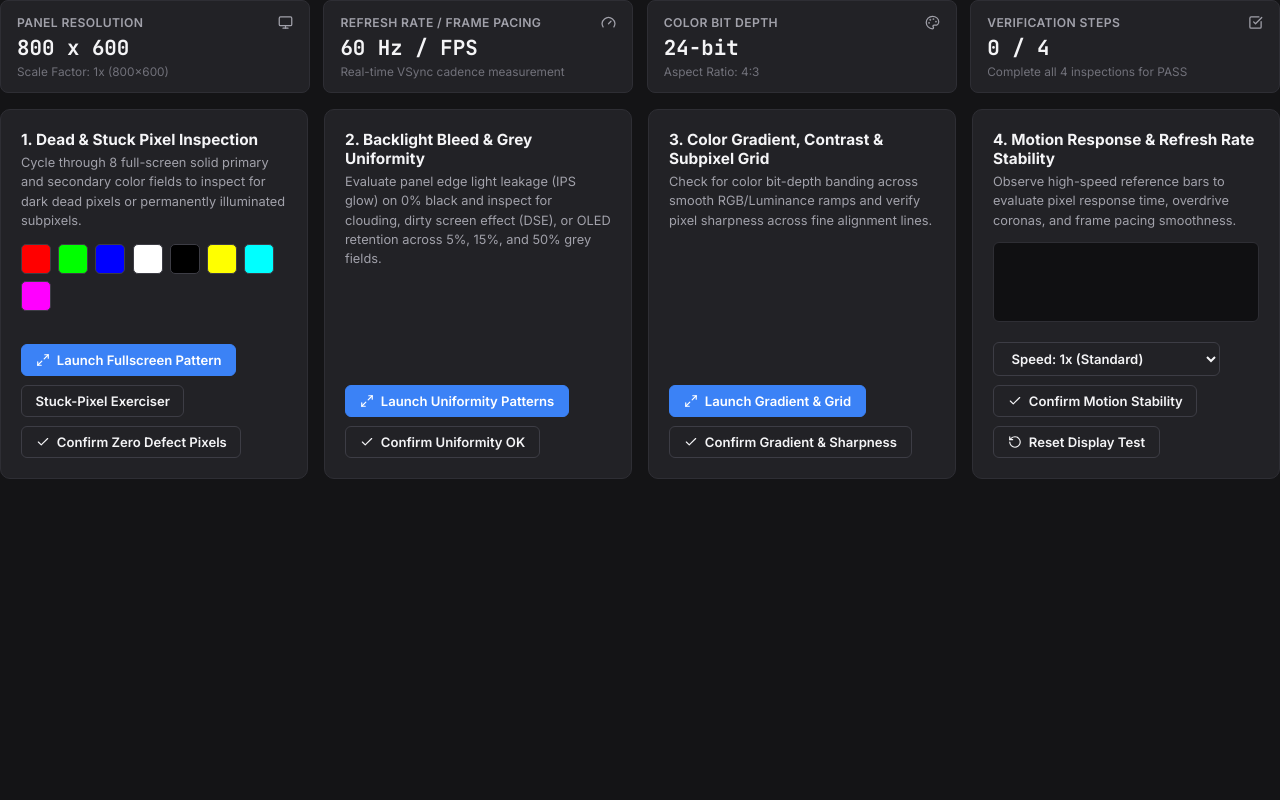
ScreenTester › renders display checks and opens/closes stuck-pixel exerciser
Expected: the text "Stuck-Pixel Exerciser" is shown, [36,393,170,409]
Click the button "Stuck-Pixel Exerciser" at (103, 401), box [21,385,184,417]
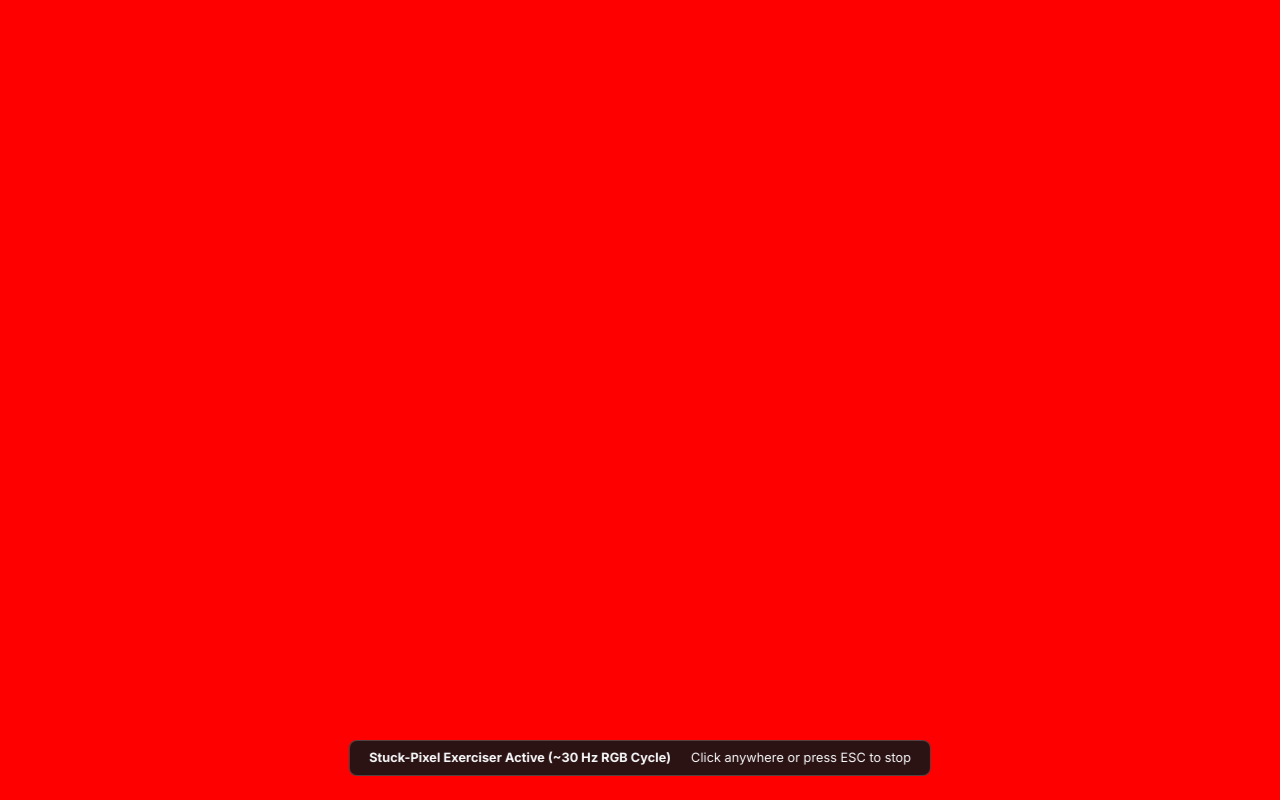
Now the text "Stuck-Pixel Exerciser Active (~30 Hz RGB Cycle)" is shown, box [369,750,671,765]
Press Escape
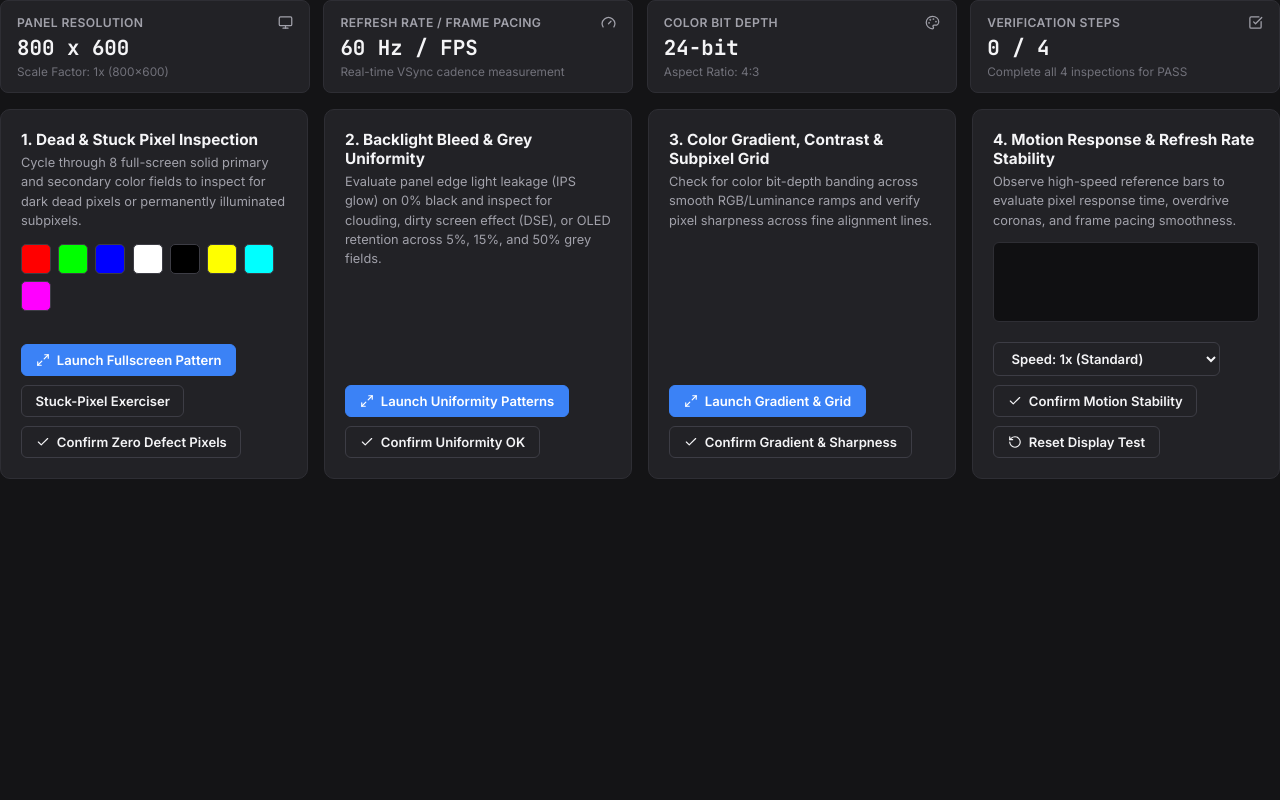
Now the text "Stuck-Pixel Exerciser Active (~30 Hz RGB Cycle)" is gone
